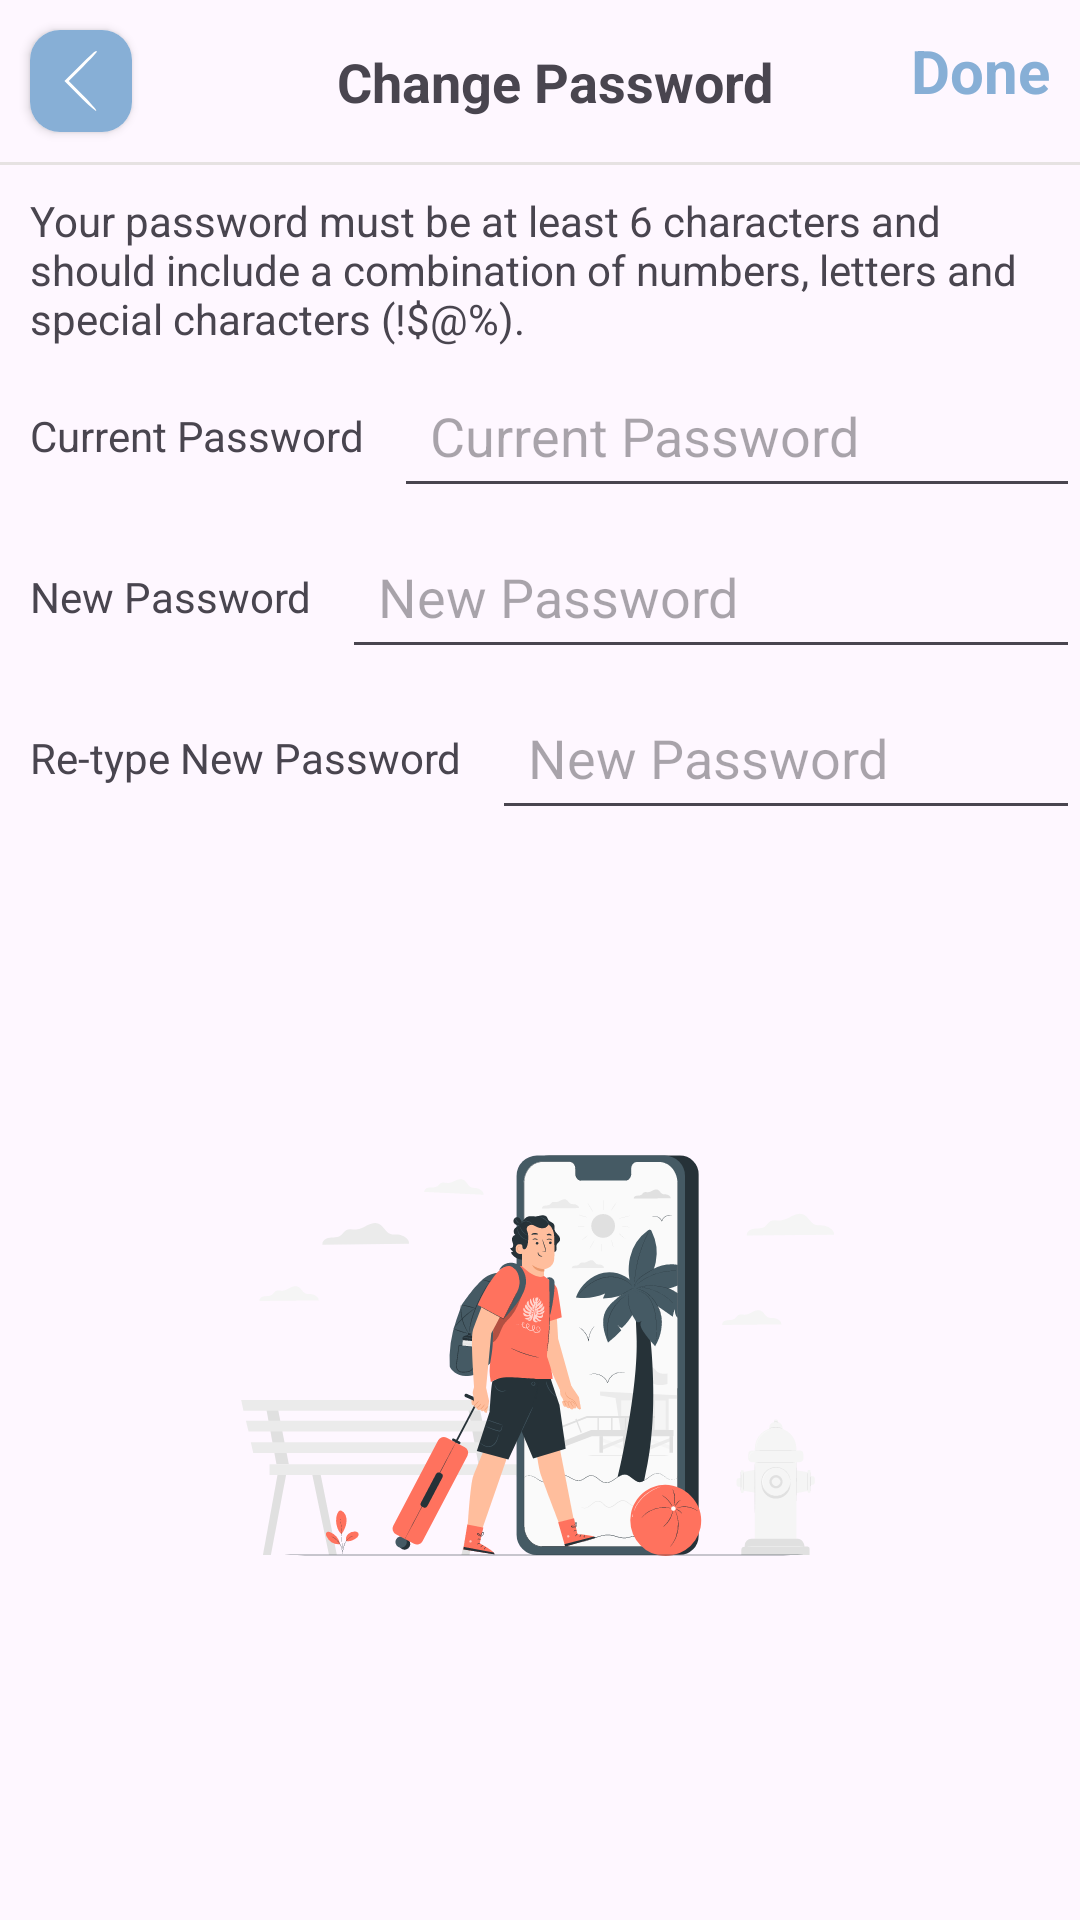

Named icons in this screenshot (1080px×1920px) and their centers, (x,y):
back: (81,81)
